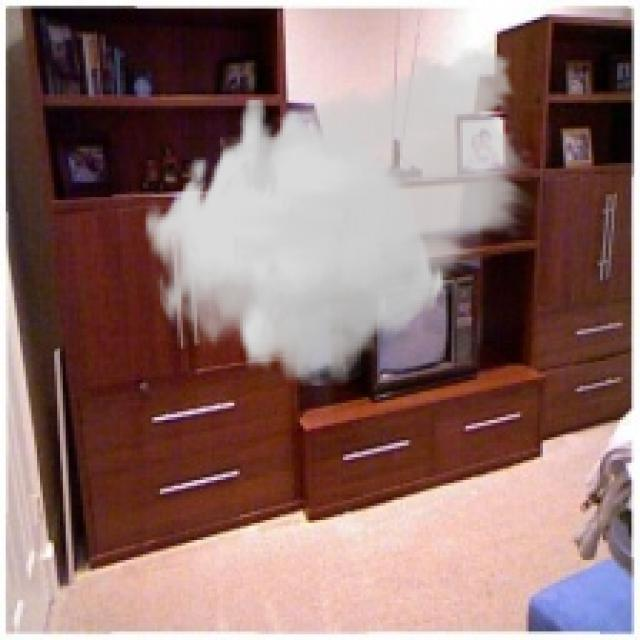Smoke: (142, 31, 538, 386)
